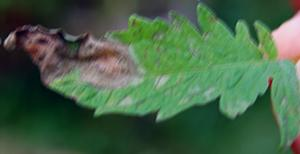Tomato leaf late blight: (2, 3, 294, 124)
